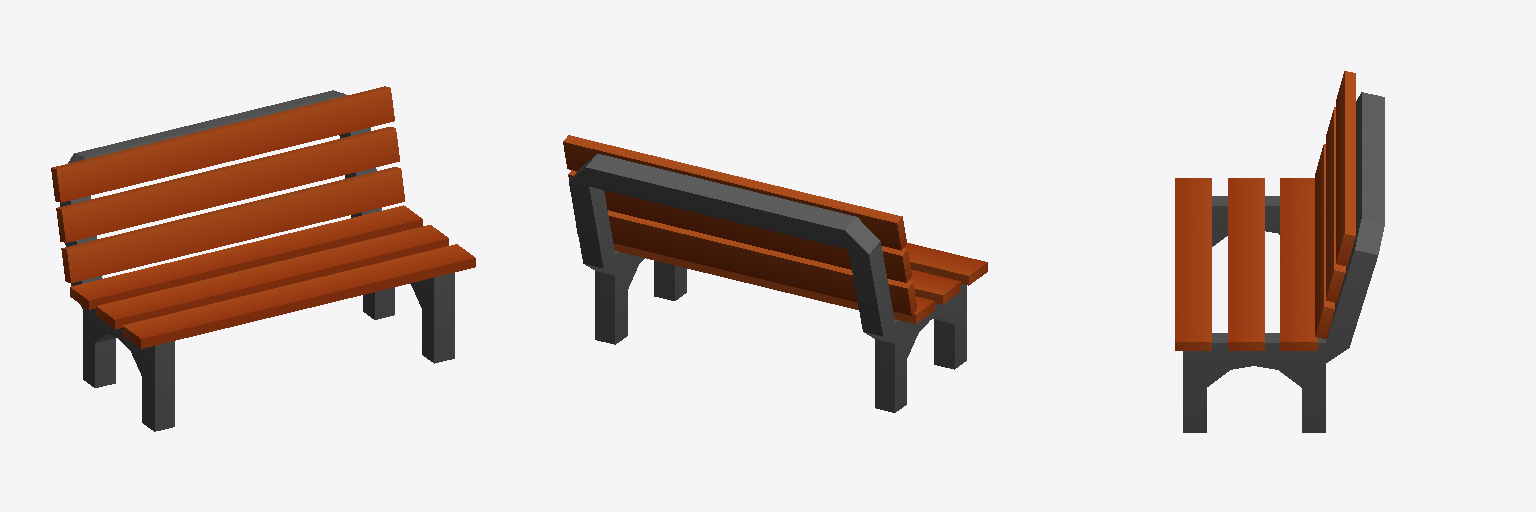
The picture shows the model from 3 angles: view 1: azimuth 30°, elevation 25°; view 2: azimuth 150°, elevation 25°; view 3: azimuth 270°, elevation 25°; orthographic projection.
Visible parts, largest first — view 1: Cube.002_Cube.003, Cube.001_Cube.002, Cube_Cube.001; view 2: Cube_Cube.001, Cube.002_Cube.003, Cube.001_Cube.002; view 3: Cube.001_Cube.002, Cube_Cube.001, Cube.002_Cube.003.
Boxes of the visible parts, x1,y1,x2,y2 form: Cube.002_Cube.003: [51, 86, 404, 282]; Cube.001_Cube.002: [70, 205, 475, 348]; Cube_Cube.001: [60, 90, 454, 431]; Cube_Cube.001: [569, 154, 966, 412]; Cube.002_Cube.003: [563, 135, 916, 315]; Cube.001_Cube.002: [613, 243, 987, 323]; Cube.001_Cube.002: [1175, 178, 1317, 350]; Cube_Cube.001: [1183, 92, 1384, 432]; Cube.002_Cube.003: [1315, 71, 1355, 339].
Bounding box in the file's own units: 2.08 × 1.23 × 1.13.
Materials: 1 (1 with a texture image).